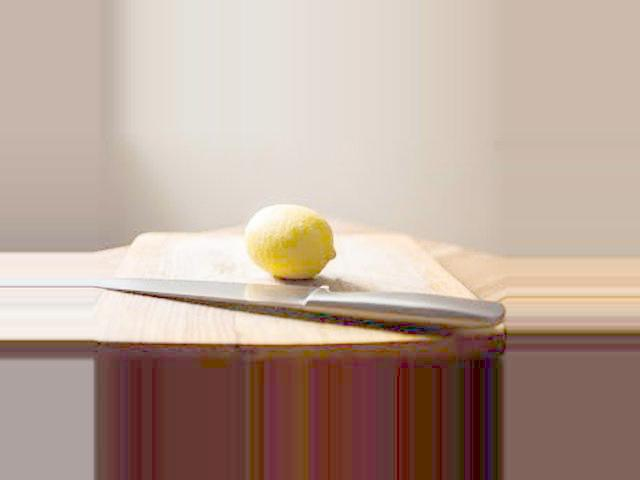lemon: (232, 199, 342, 279)
